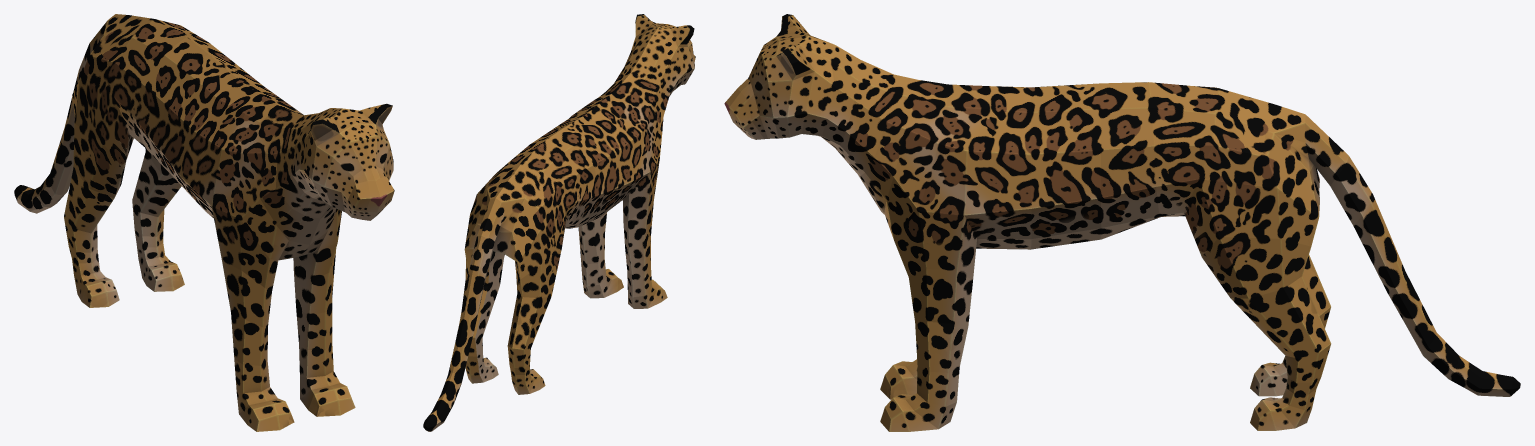
The model's file is jaguar.glb.
3 renders of one model, left to right at view 1: azimuth 30°, elevation 25°; view 2: azimuth 150°, elevation 25°; view 3: azimuth 270°, elevation 25°, orthographic. The views are drawn at different scales.
Visible parts, largest first — view 1: node-0; view 2: node-0; view 3: node-0.
Boxes of the visible parts, x1,y1,x2,y2 form: node-0: [14, 14, 394, 431]; node-0: [423, 14, 695, 431]; node-0: [724, 14, 1520, 431].
Bounding box in the file's own units: 2.51 × 6.84 × 13.22.
Materials: 1 (1 with a texture image).
